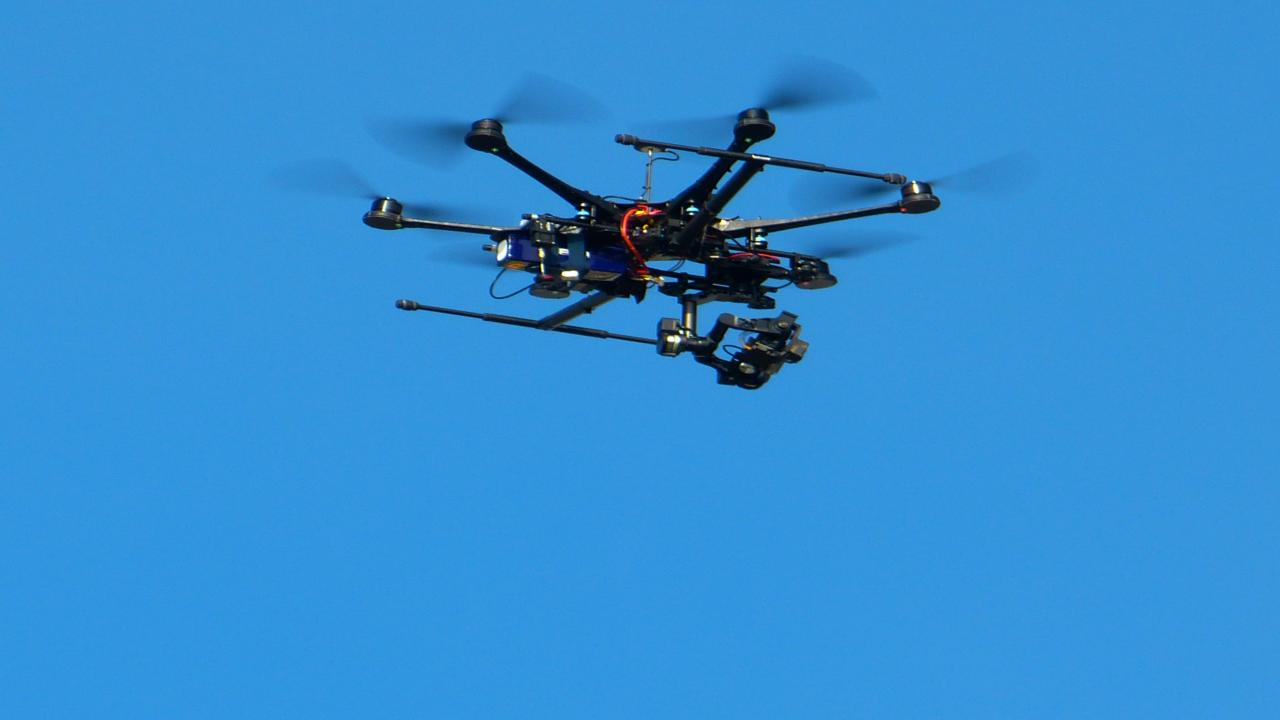Drone: (272, 38, 1024, 407)
